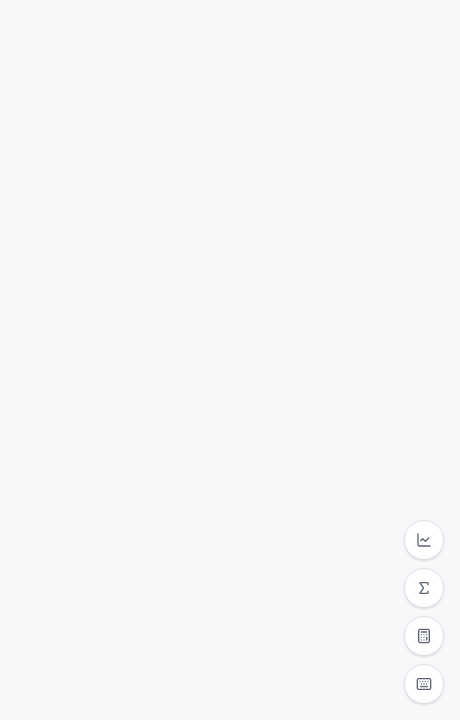
Test: the calculator on a laptop › still has its expression and its history when reopened
Click the button named "เครื่องคิดเลข".
click(424, 636)  # box left=404, top=616, right=444, bottom=656
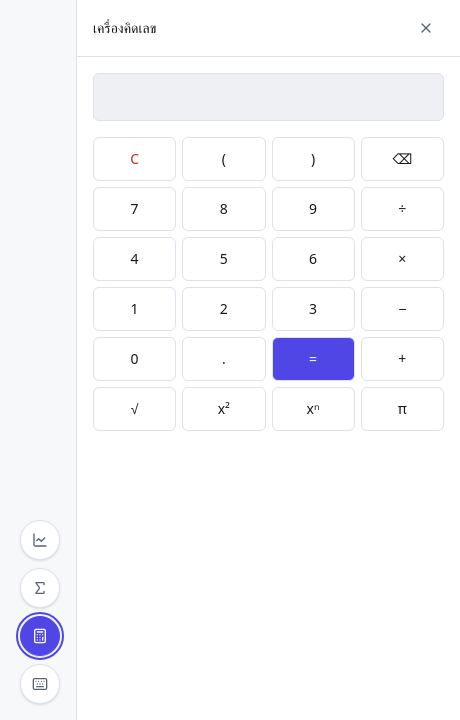
Type "2+3" into the field named "นิพจน์ที่จะคำนวณ".
click(268, 97); type("2+3")  # box left=93, top=73, right=444, bottom=121
Then press Enter
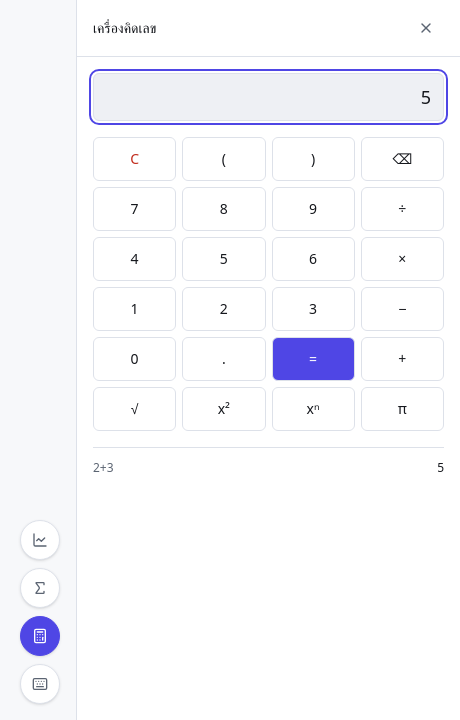
Expected: the field named "นิพจน์ที่จะคำนวณ" holds "5", left=93, top=73, right=444, bottom=121
Expected: the text "2+3" is shown, left=93, top=460, right=114, bottom=476
Click the button named "เครื่องคิดเลข".
click(40, 636)  # box left=20, top=616, right=60, bottom=656
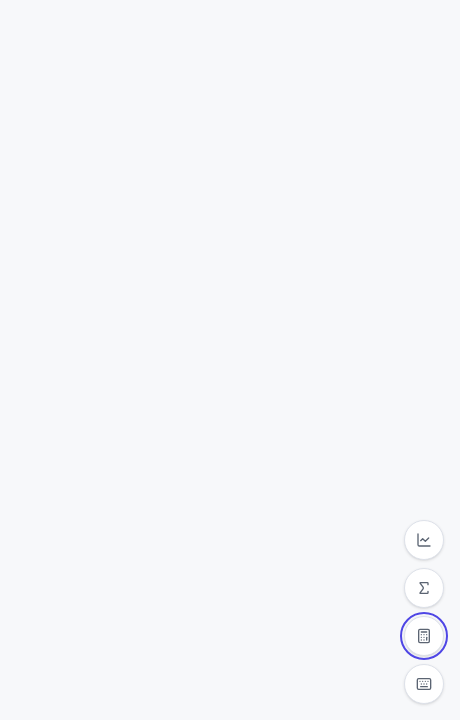
Expected: the field labelled "นิพจน์ที่จะคำนวณ" is gone
Click the button named "เครื่องคิดเลข".
click(424, 636)  # box left=404, top=616, right=444, bottom=656
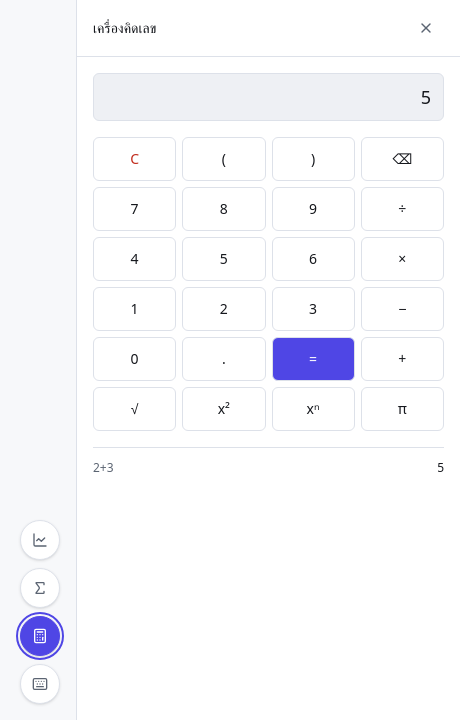
Expected: the field named "นิพจน์ที่จะคำนวณ" holds "5", left=93, top=73, right=444, bottom=121
Expected: the text "2+3" is shown, left=93, top=460, right=114, bottom=476
